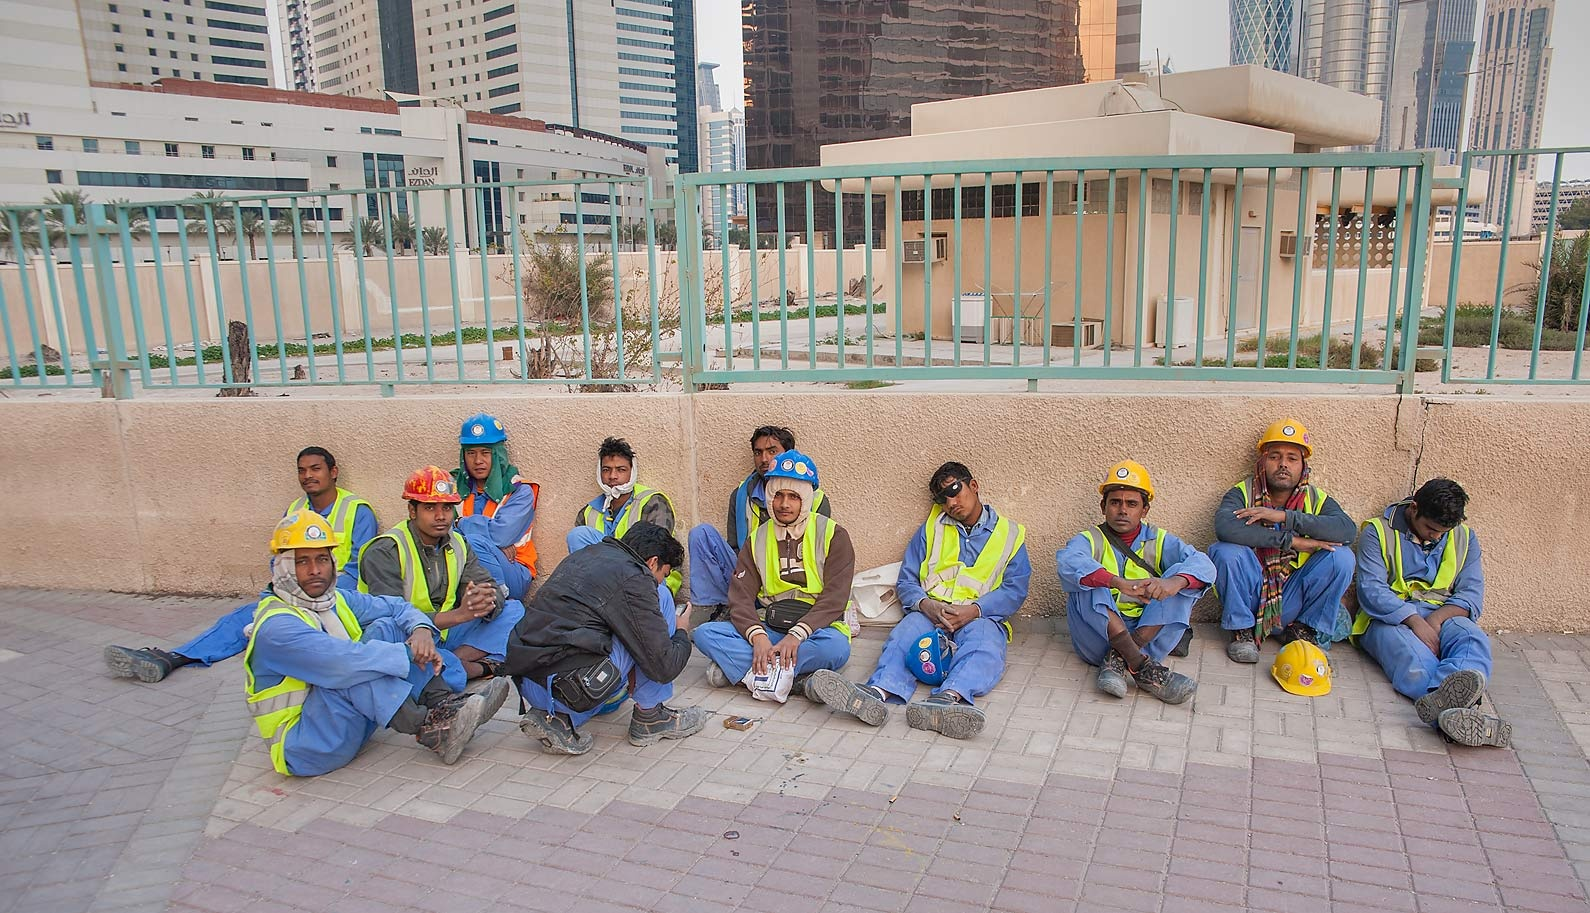blue: (759, 448, 820, 523), (452, 410, 509, 481)
none: (1402, 473, 1474, 544), (618, 515, 685, 588), (925, 455, 983, 524), (588, 435, 642, 496), (743, 422, 796, 478), (290, 442, 341, 501)
red: (399, 462, 462, 541)
yellow: (265, 507, 341, 604), (1249, 416, 1318, 493), (1095, 453, 1158, 535)
